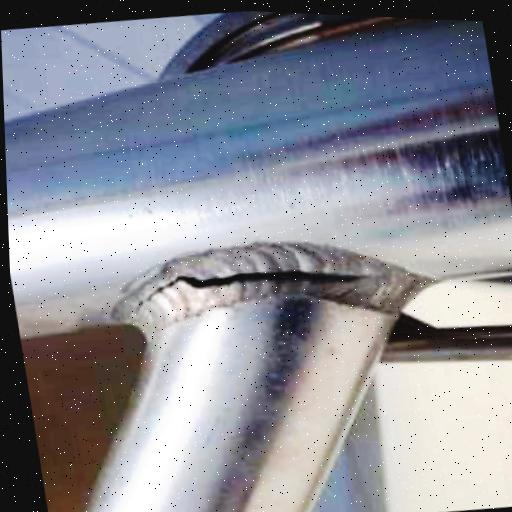crack: (122, 240, 379, 331)
